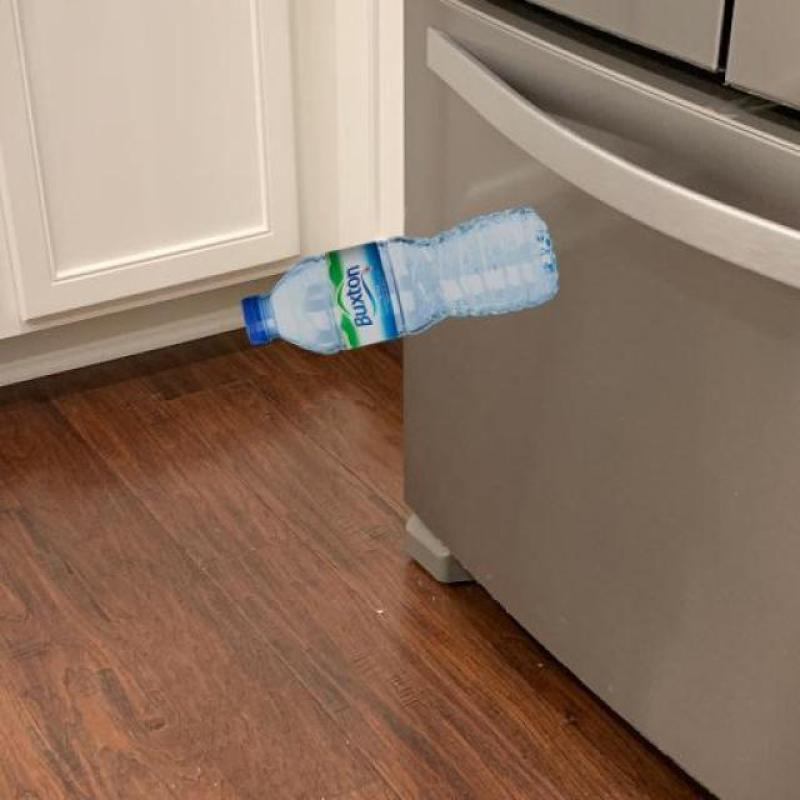botella: (240, 209, 562, 356)
